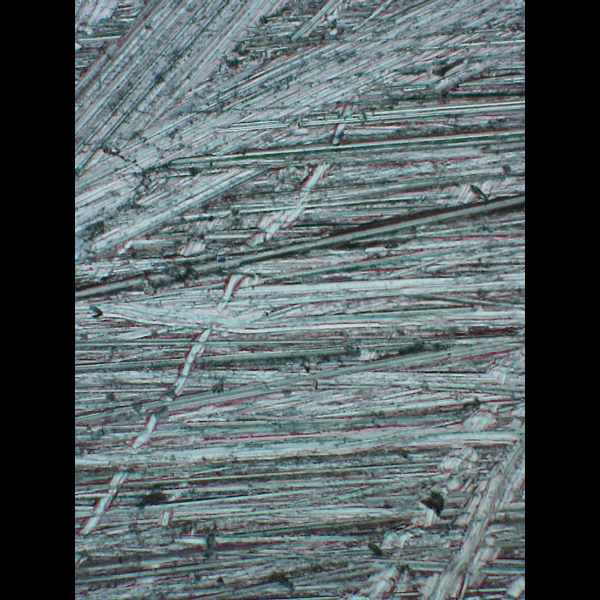d: (75, 0, 515, 263)
